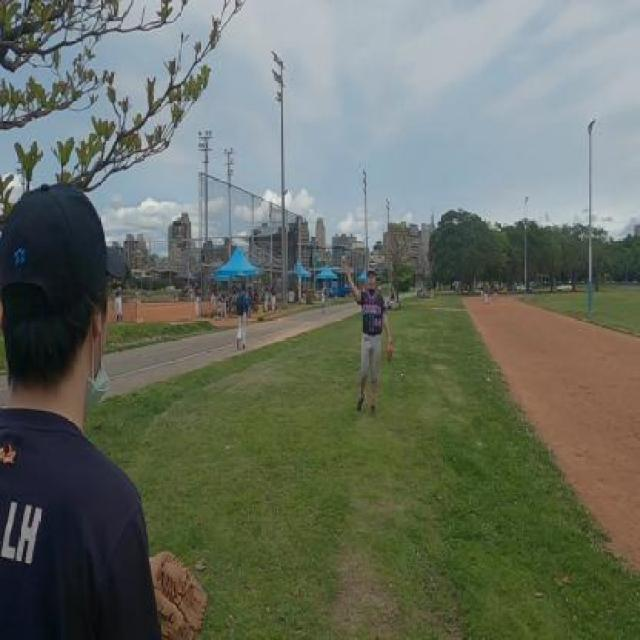baseball: (341, 255, 345, 262)
